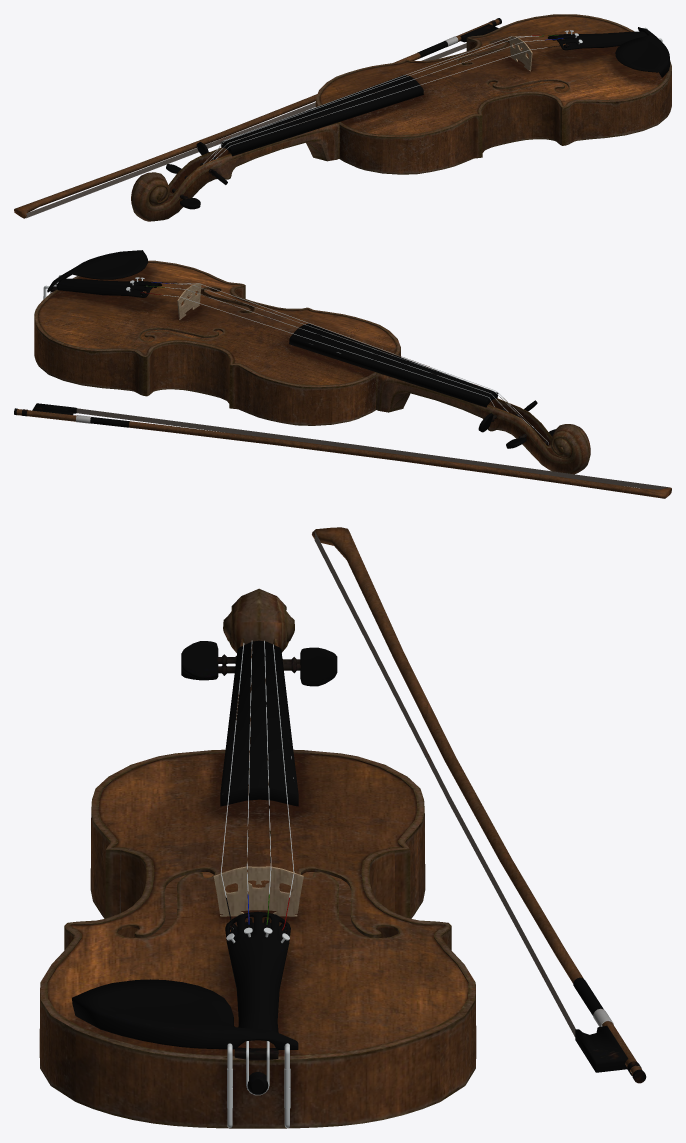
File: violin.glb
3 renders of one model, top to bottom at view 1: azimuth 30°, elevation 25°; view 2: azimuth 150°, elevation 25°; view 3: azimuth 270°, elevation 25°, orthographic. The views are drawn at different scales.
Visible parts, largest first — view 1: Box005; view 2: Box005; view 3: Box005.
Part boxes in pixels (x1,y1,x2,y2): Box005: (14,14,671,221); Box005: (14,250,671,498); Box005: (39,527,646,1128).
Size of the model in its own units: 2 by 0.2869 by 0.849.
Materials: 1 (1 with a texture image).
